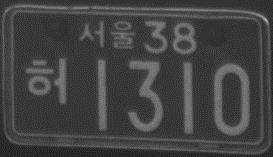0: (213, 62, 252, 136)
1: (180, 59, 201, 136), (93, 57, 113, 133)
3: (126, 58, 164, 134), (141, 18, 170, 55)
8: (172, 21, 198, 56)
서울_O: (79, 20, 135, 51)
허: (23, 55, 68, 106)
